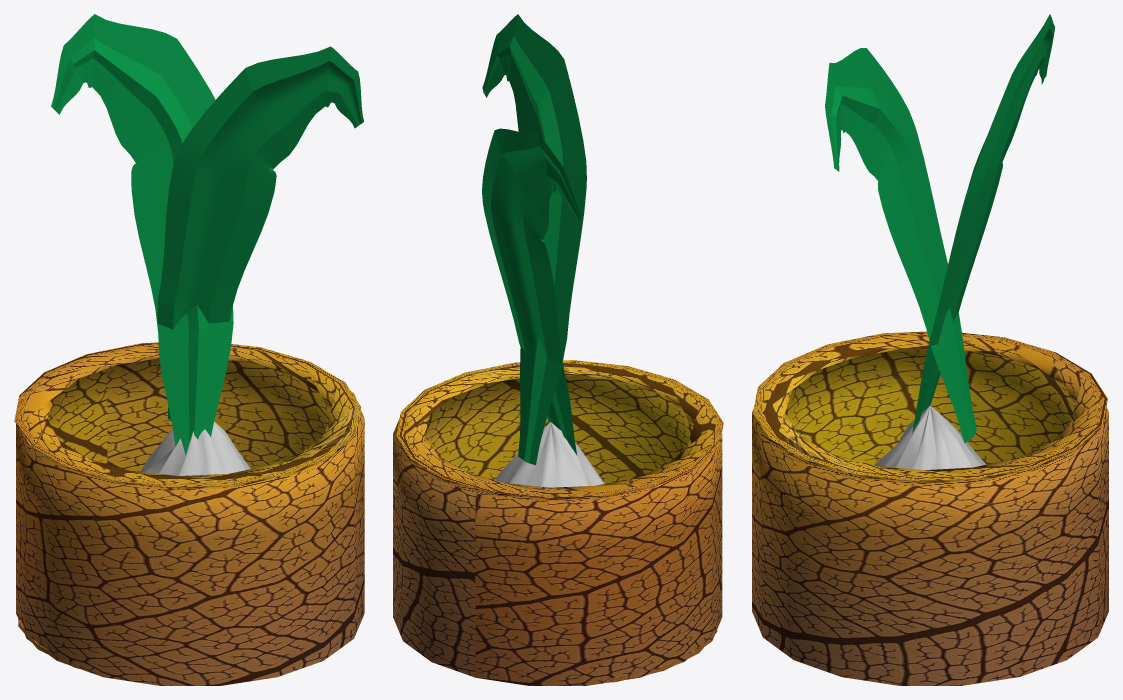
The model's file is ovosch.gltf.
The picture shows the model from 3 angles, left to right: view 1: azimuth 30°, elevation 25°; view 2: azimuth 150°, elevation 25°; view 3: azimuth 270°, elevation 25°; orthographic projection. The views are drawn at different scales.
Visible parts, largest first — view 1: Tube001, Loft001, Loft002, Cone001; view 2: Tube001, Loft001, Loft002, Cone001; view 3: Tube001, Loft001, Loft002, Cone001.
Boxes of the visible parts, x1=… form: Tube001: x1=14, y1=342, x2=364, y2=685; Loft001: x1=157, y1=46, x2=363, y2=419; Loft002: x1=51, y1=14, x2=233, y2=455; Cone001: x1=140, y1=421, x2=250, y2=475; Tube001: x1=393, y1=360, x2=723, y2=685; Loft001: x1=482, y1=14, x2=586, y2=465; Loft002: x1=482, y1=128, x2=581, y2=455; Cone001: x1=495, y1=422, x2=604, y2=487; Tube001: x1=752, y1=331, x2=1108, y2=685; Loft001: x1=825, y1=48, x2=976, y2=443; Loft002: x1=912, y1=14, x2=1054, y2=432; Cone001: x1=874, y1=405, x2=985, y2=470.
Bounding box in the file's own units: 0.8599 × 1.59 × 0.8607.
